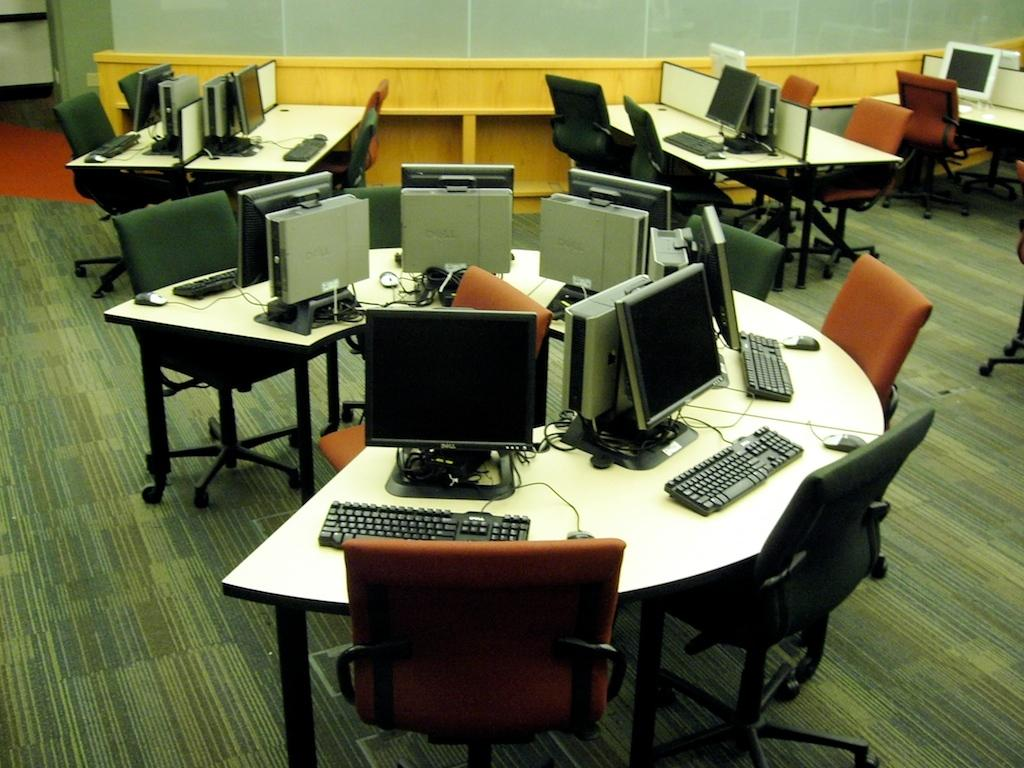Chair: (633, 408, 938, 767), (254, 482, 624, 747), (112, 192, 332, 510), (821, 251, 936, 579), (51, 87, 176, 303), (774, 97, 915, 287), (875, 68, 984, 218), (342, 183, 406, 431), (622, 93, 734, 222), (739, 75, 816, 227), (971, 160, 1023, 382), (540, 66, 638, 173), (960, 55, 1023, 206), (682, 214, 783, 304), (315, 75, 382, 187), (318, 103, 381, 195), (112, 68, 147, 126)
Computer-keyboard: (662, 421, 804, 515), (315, 501, 529, 545), (738, 328, 793, 401), (658, 124, 730, 153), (173, 268, 237, 300), (281, 136, 322, 165), (91, 132, 140, 153)
Computer-monitor: (564, 261, 722, 472), (366, 305, 532, 503), (240, 171, 338, 292), (567, 164, 676, 235), (695, 203, 739, 355), (399, 161, 518, 216), (702, 66, 757, 156), (132, 61, 176, 156), (939, 37, 998, 103), (229, 63, 267, 136), (254, 56, 281, 122), (1001, 49, 1021, 71)
